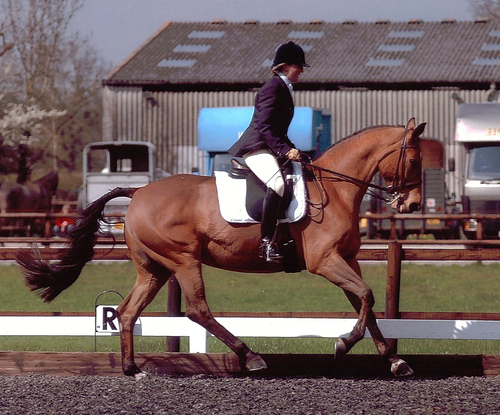without_mask: (275, 55, 308, 84)
